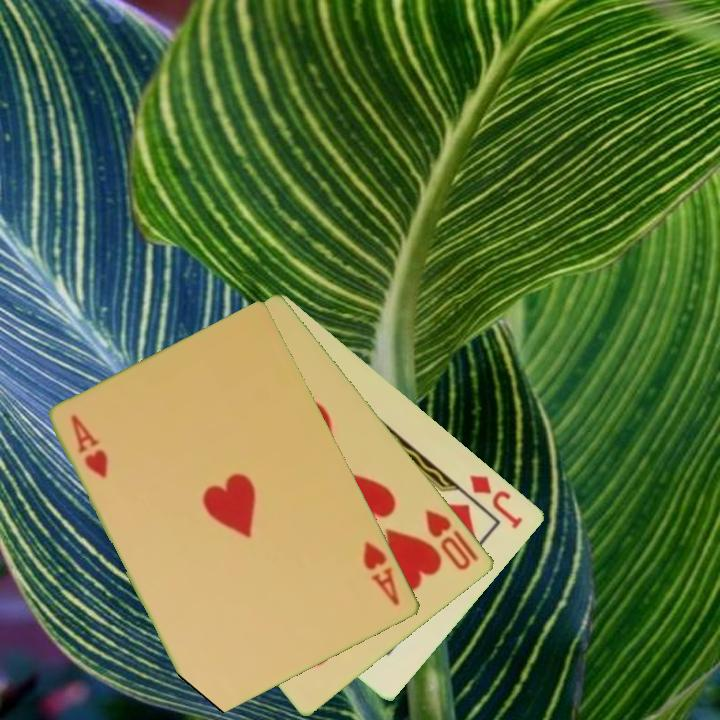10h: (422, 505, 475, 574)
Ah: (68, 411, 112, 481), (360, 538, 403, 609)
Jd: (467, 471, 527, 532)
